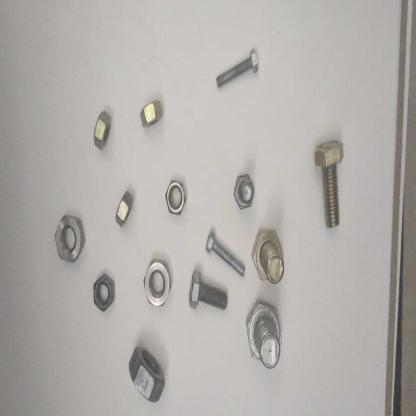Bolts: (310, 125, 351, 238), (235, 299, 287, 375), (207, 41, 264, 104), (251, 223, 288, 287), (189, 265, 228, 322), (205, 230, 247, 280), (230, 170, 260, 222)
NUTS: (126, 339, 168, 413), (50, 211, 86, 272), (141, 251, 174, 317), (90, 264, 119, 318), (162, 175, 188, 228), (138, 92, 170, 134), (89, 106, 117, 154), (113, 184, 136, 232)
